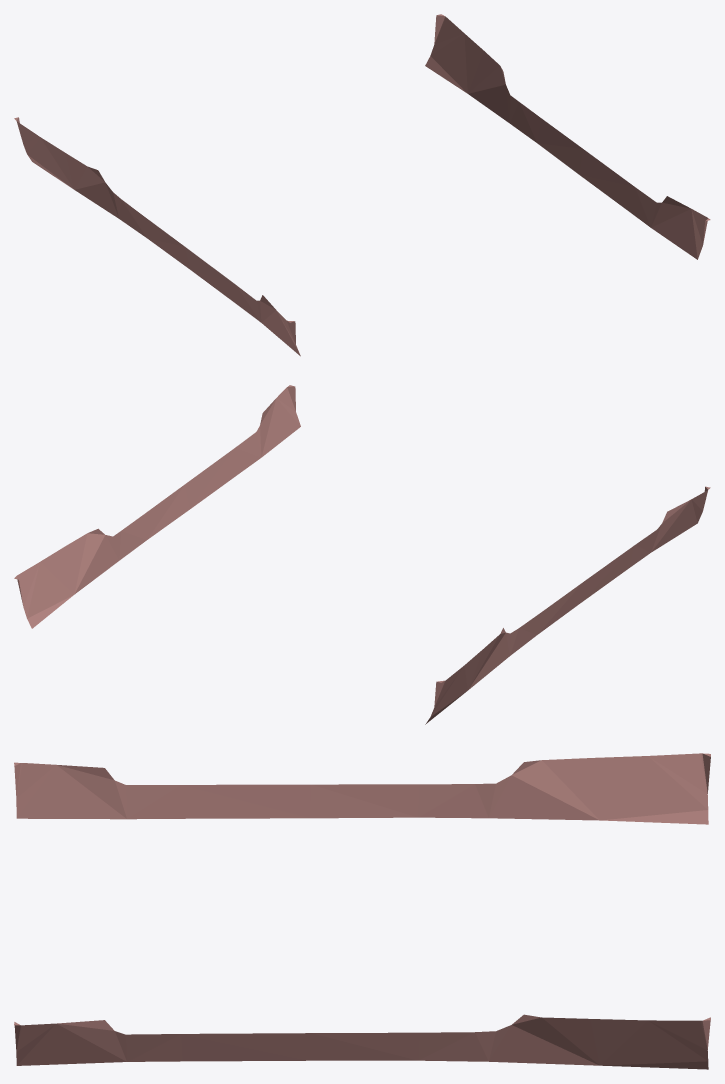
The model's file is R34_Skirt01_Trim.fbx.
3 renders of one model, top to bottom at view 1: azimuth 30°, elevation 25°; view 2: azimuth 150°, elevation 25°; view 3: azimuth 270°, elevation 25°, orthographic. The views are drawn at different scales.
Visible parts, largest first — view 1: R34_Skirt01_Trim; view 2: R34_Skirt01_Trim; view 3: R34_Skirt01_Trim.
Part boxes in pixels (bbox=[...]): R34_Skirt01_Trim: bbox=[14, 14, 710, 356]; R34_Skirt01_Trim: bbox=[14, 385, 710, 724]; R34_Skirt01_Trim: bbox=[14, 753, 710, 1069].
Bounding box in the file's own units: 175 × 18.31 × 193.
